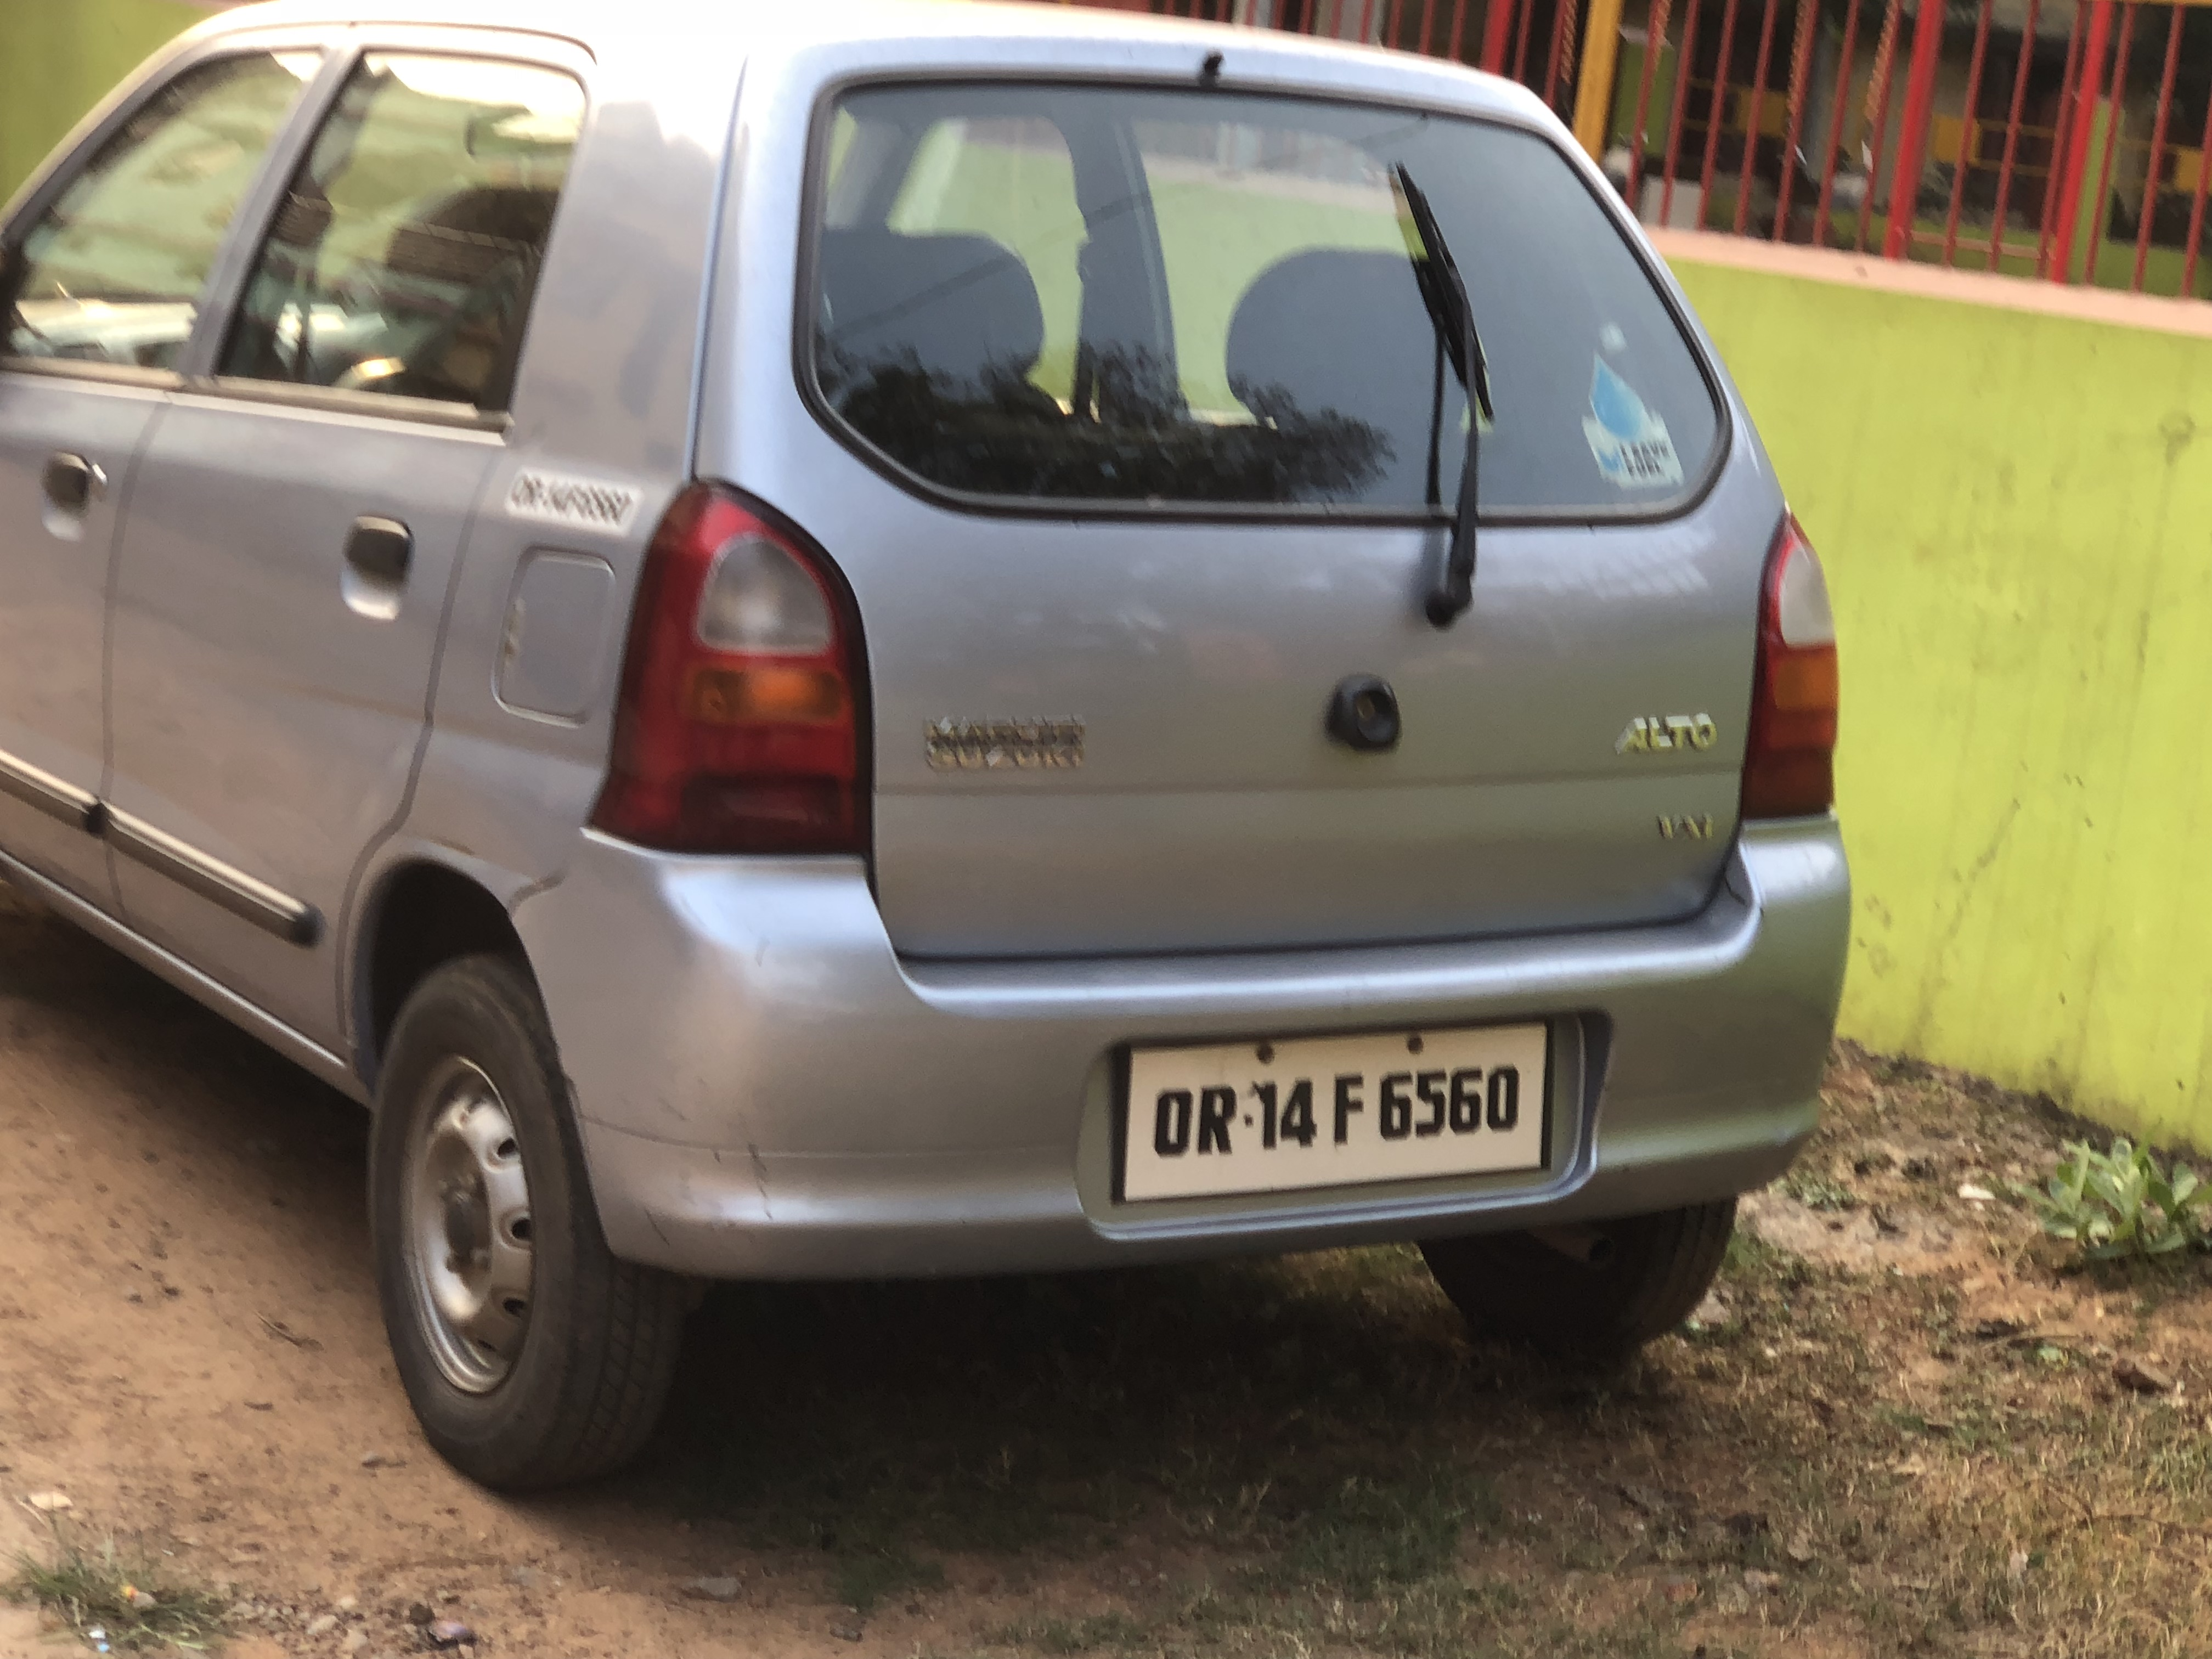licenseplate: (1111, 1005, 1565, 1205)
